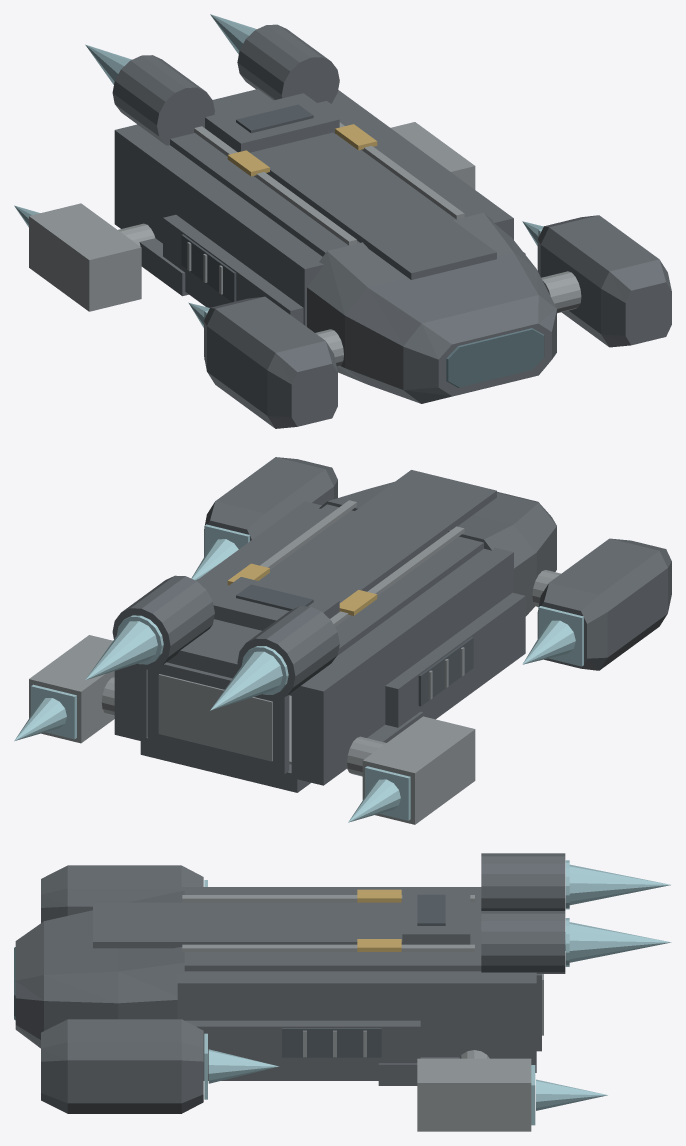
File: shipit_black_flight.glb
The picture shows the model from 3 angles, top to bottom: view 1: azimuth 30°, elevation 25°; view 2: azimuth 150°, elevation 25°; view 3: azimuth 270°, elevation 25°; orthographic projection. The views are drawn at different scales.
Parts seen in each view (by area): view 1: body_0, engine_L_pivot_housing, engine_R_pivot_housing, rear_L_pivot_housing, body_1, body_2, body_4, rear_R_pivot_housing, body_5, body_3; view 2: body_0, engine_L_pivot_housing, rear_L_pivot_housing, cargo_ramp_detail, engine_R_pivot_housing, body_5, body_1, rear_R_pivot_housing, cargo_ramp_panel, body_4, engine_L_pivot_jet, engine_L_pivot_nozzle (+7 smaller); view 3: body_0, engine_R_pivot_housing, rear_R_pivot_housing, engine_L_pivot_housing, body_5, body_1, body_4, engine_R_pivot_jet, body_3, rear_R_pivot_jet, cargo_ramp_panel.
Boxes of the visible parts, x1=… form: body_0: x1=112, y1=24, x2=556, y2=403; engine_L_pivot_housing: x1=204, y1=296, x2=337, y2=428; engine_R_pivot_housing: x1=537, y1=215, x2=671, y2=347; rear_L_pivot_housing: x1=29, y1=203, x2=141, y2=311; body_1: x1=118, y1=122, x2=581, y2=366; body_2: x1=446, y1=328, x2=544, y2=387; body_4: x1=181, y1=104, x2=313, y2=302; rear_R_pivot_housing: x1=390, y1=122, x2=475, y2=189; body_5: x1=85, y1=14, x2=256, y2=84; body_3: x1=227, y1=124, x2=377, y2=176; body_0: x1=112, y1=470, x2=556, y2=792; engine_L_pivot_housing: x1=537, y1=538, x2=671, y2=670; rear_L_pivot_housing: x1=362, y1=716, x2=475, y2=824; cargo_ramp_detail: x1=158, y1=674, x2=272, y2=761; engine_R_pivot_housing: x1=204, y1=457, x2=337, y2=556; body_5: x1=85, y1=615, x2=288, y2=710; body_1: x1=101, y1=500, x2=560, y2=776; rear_R_pivot_housing: x1=29, y1=635, x2=114, y2=743; cargo_ramp_panel: x1=148, y1=662, x2=289, y2=774; body_4: x1=236, y1=584, x2=473, y2=706; engine_L_pivot_jet: x1=522, y1=620, x2=575, y2=664; engine_L_pivot_nozzle: x1=538, y1=606, x2=583, y2=666; body_0: x1=15, y1=853, x2=565, y2=1085; engine_R_pivot_housing: x1=41, y1=1019, x2=203, y2=1113; rear_R_pivot_housing: x1=417, y1=1058, x2=531, y2=1131; engine_L_pivot_housing: x1=41, y1=865, x2=203, y2=922; body_5: x1=565, y1=860, x2=671, y2=966; body_1: x1=182, y1=895, x2=489, y2=1058; body_4: x1=282, y1=894, x2=445, y2=1057; engine_R_pivot_jet: x1=208, y1=1049, x2=278, y2=1083; body_3: x1=357, y1=889, x2=401, y2=951; rear_R_pivot_jet: x1=536, y1=1079, x2=607, y2=1110; cargo_ramp_panel: x1=536, y1=974, x2=541, y2=1051.
Bounding box in the file's own units: 2.76 × 1.1 × 4.16.
